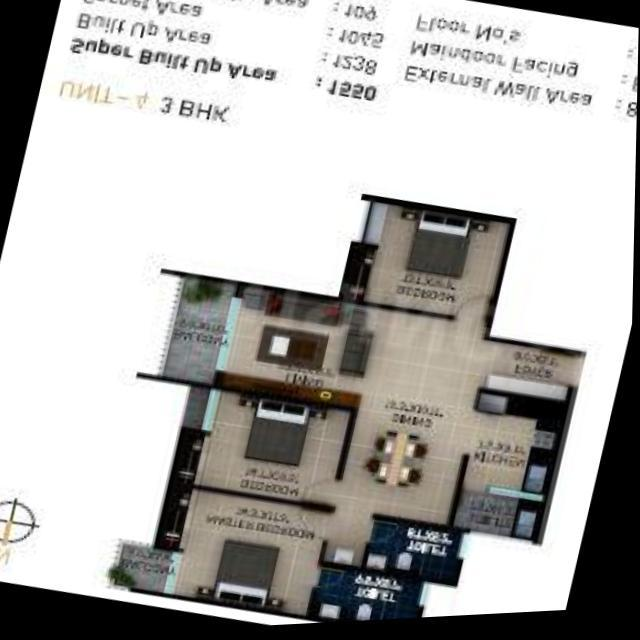Balcony-Sitout: (156, 276, 246, 391), (112, 544, 183, 599)
Bedroom: (193, 386, 358, 512), (351, 204, 511, 330)
Bedroom with Toilet: (171, 490, 428, 626)
Dining: (361, 426, 437, 499)
Enterance-Foyer: (478, 345, 585, 409)
Kitchen: (460, 395, 573, 509)
Living: (225, 288, 489, 417)
Toilet: (363, 524, 469, 587), (314, 571, 424, 625)
Utility: (454, 498, 546, 546)
